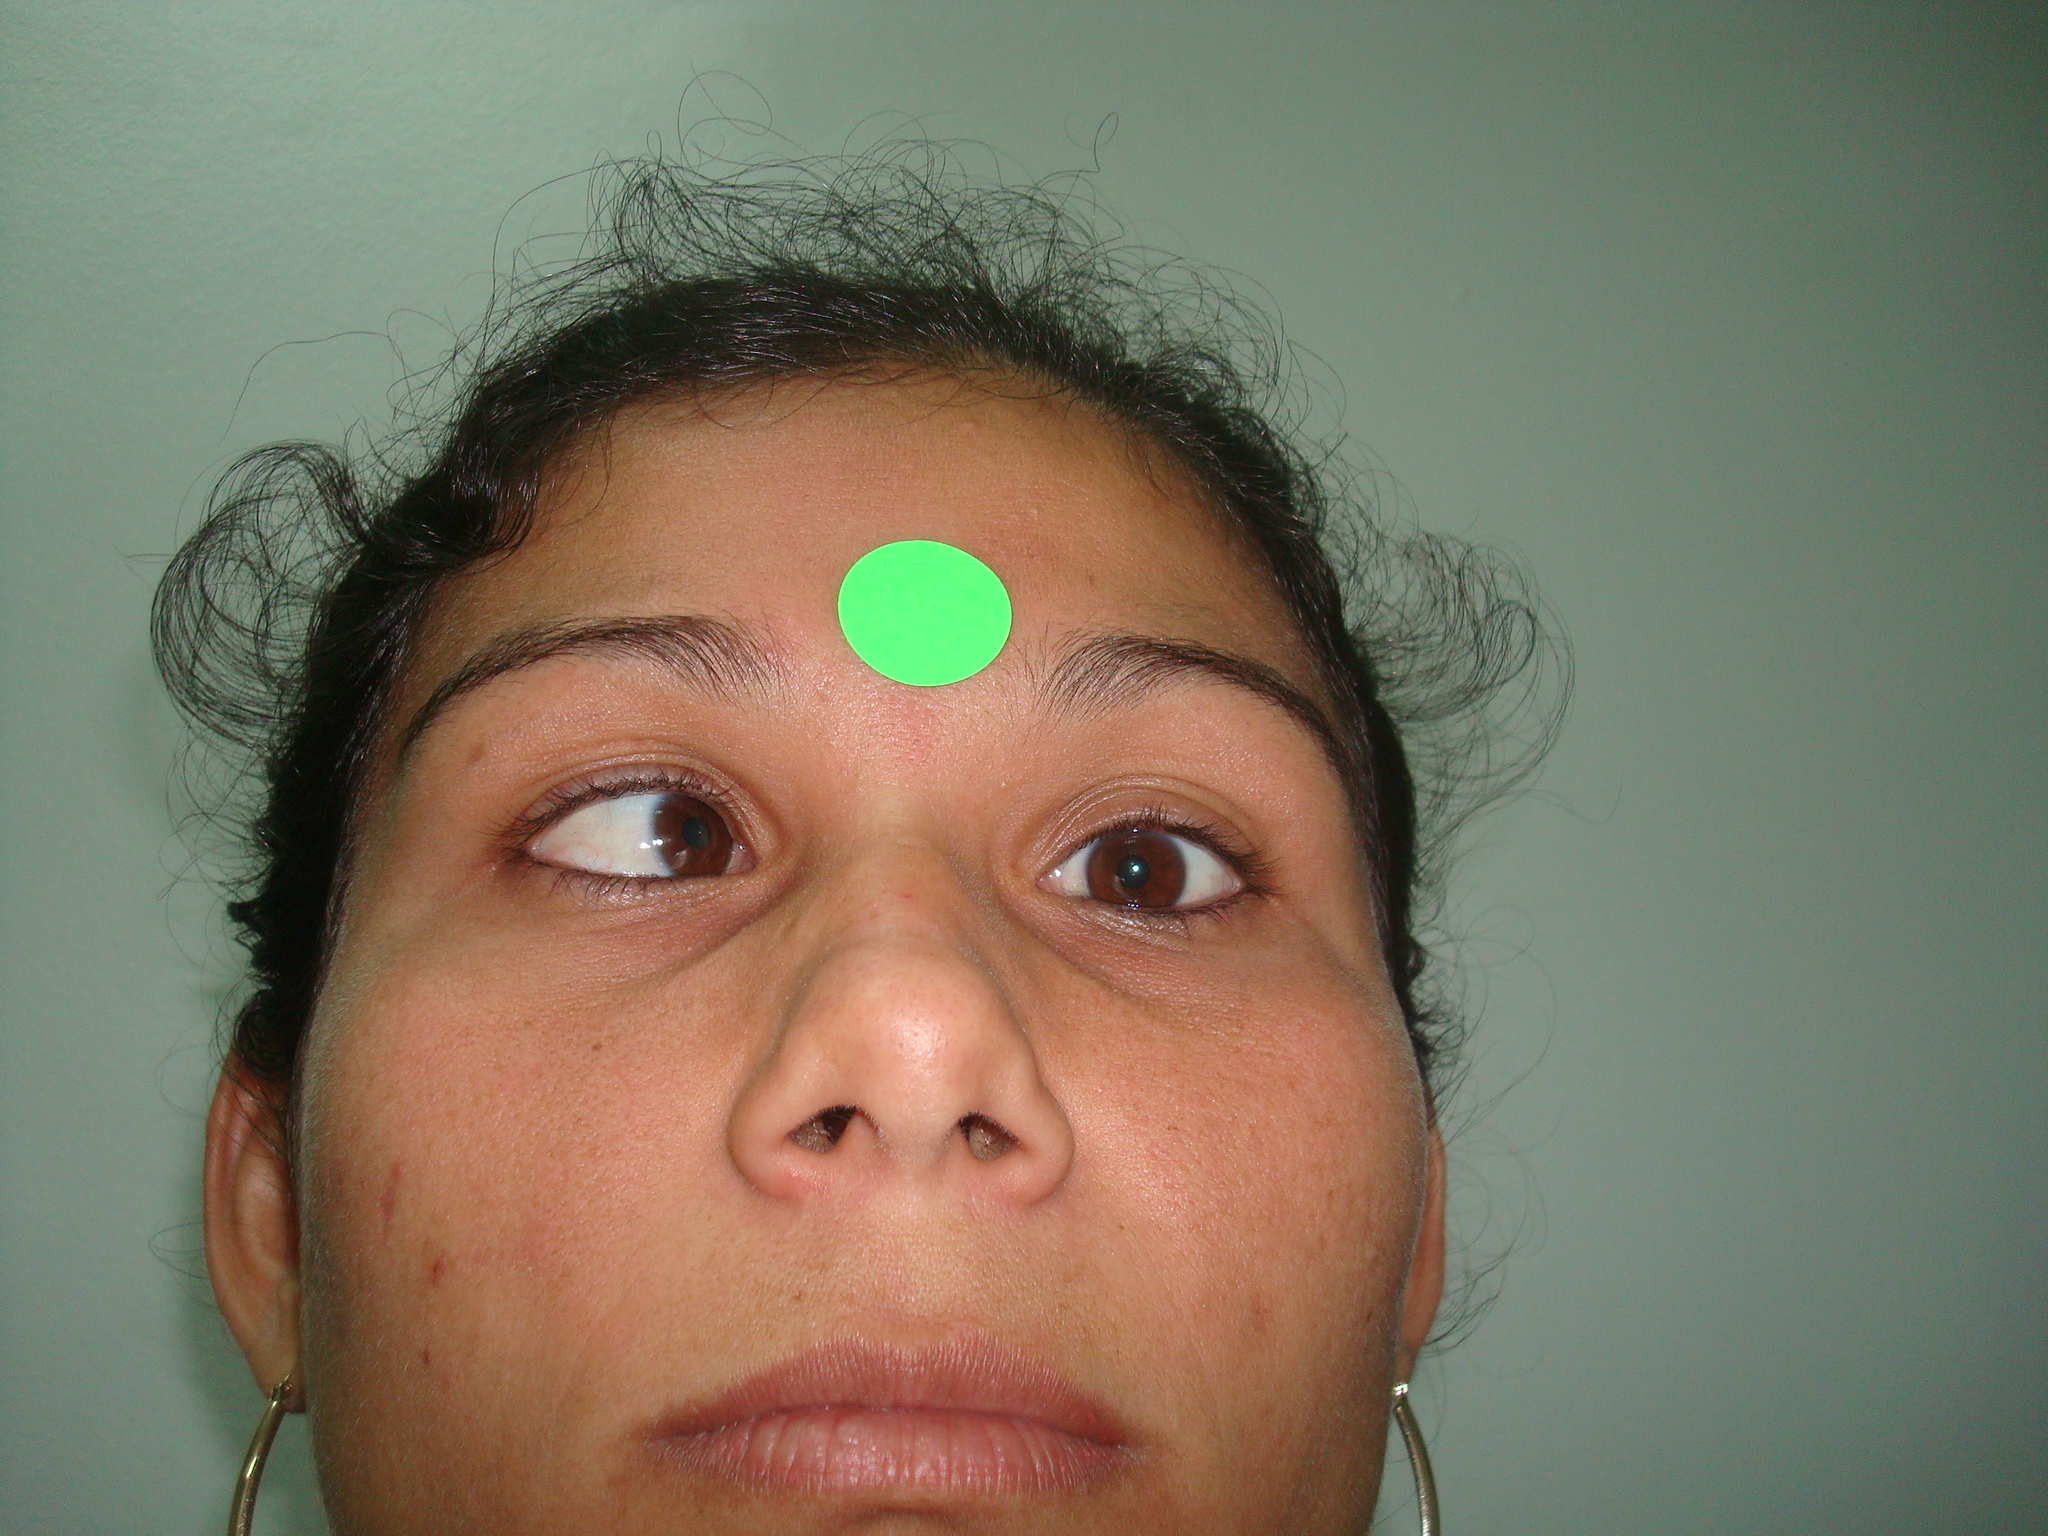flash: (651, 836, 666, 849), (1130, 862, 1140, 874)
limbo: (1087, 831, 1176, 916), (658, 787, 732, 878)
